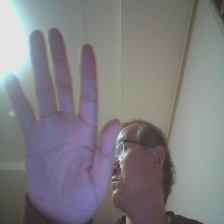hand: (7, 31, 116, 223)
